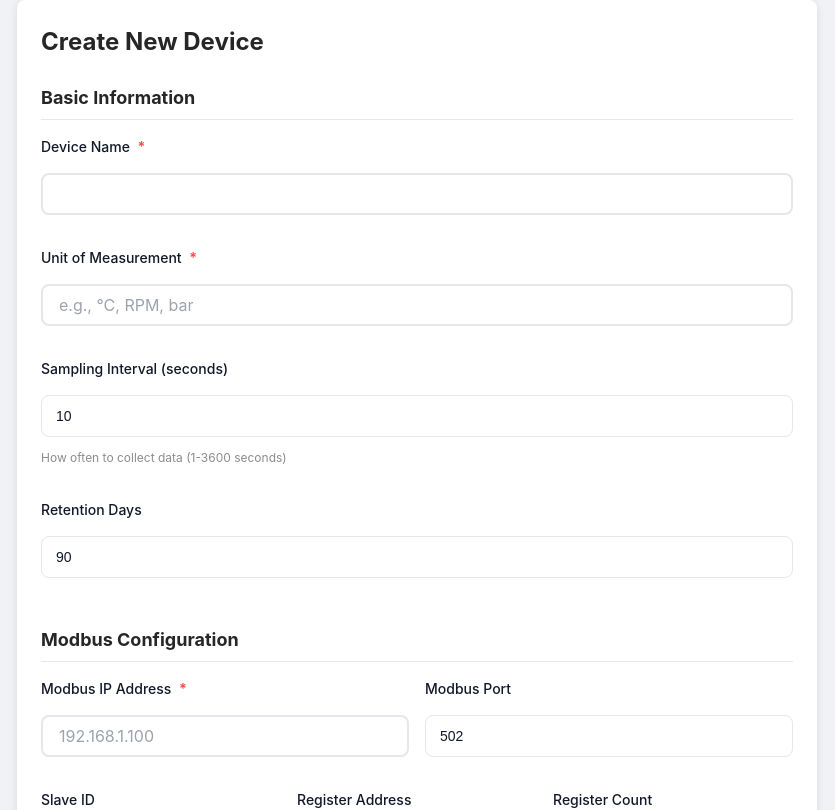
it: DeviceForm Component › Validation › should validate IP address format
The width and height of the screenshot is (835, 810).
Type "Test Device" into the field labelled "Device Name *".
click(417, 194); type("Test Device")  # box [41,173,793,215]
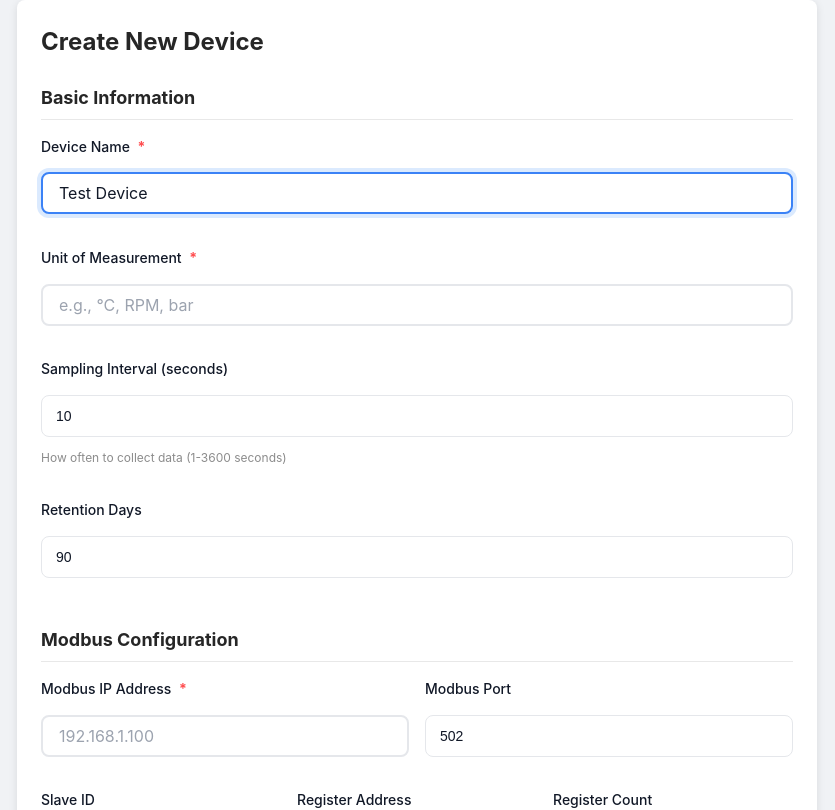
Type "invalid-ip" into the field labelled "Modbus IP Address *".
click(225, 736); type("invalid-ip")  # box [41,715,409,757]
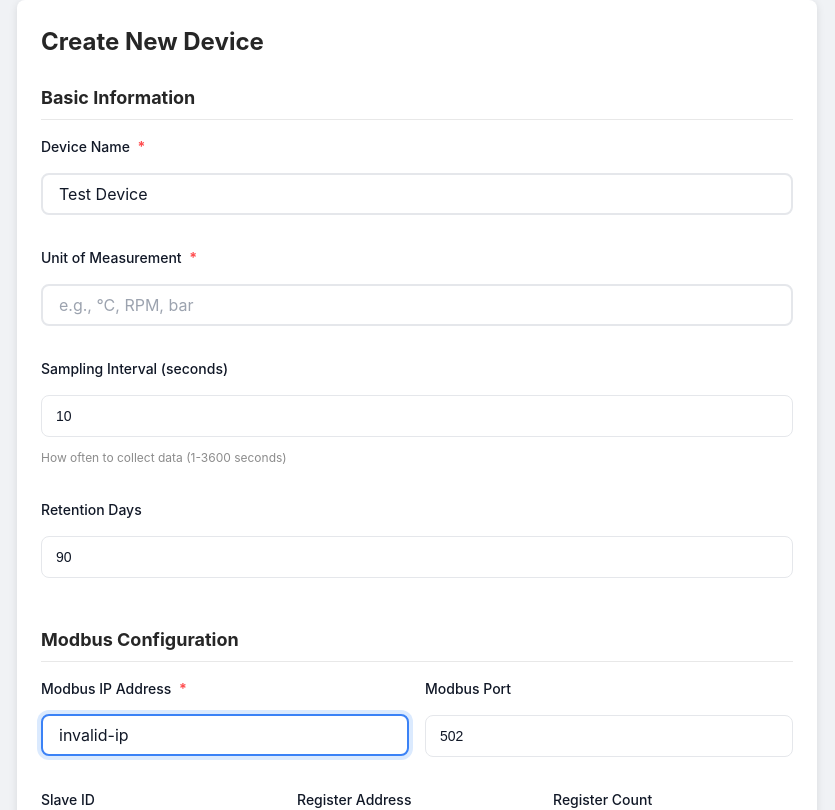
Type "bar" into the field labelled "Unit of Measurement *".
click(417, 305); type("bar")  # box [41,284,793,326]
(page scrolled)
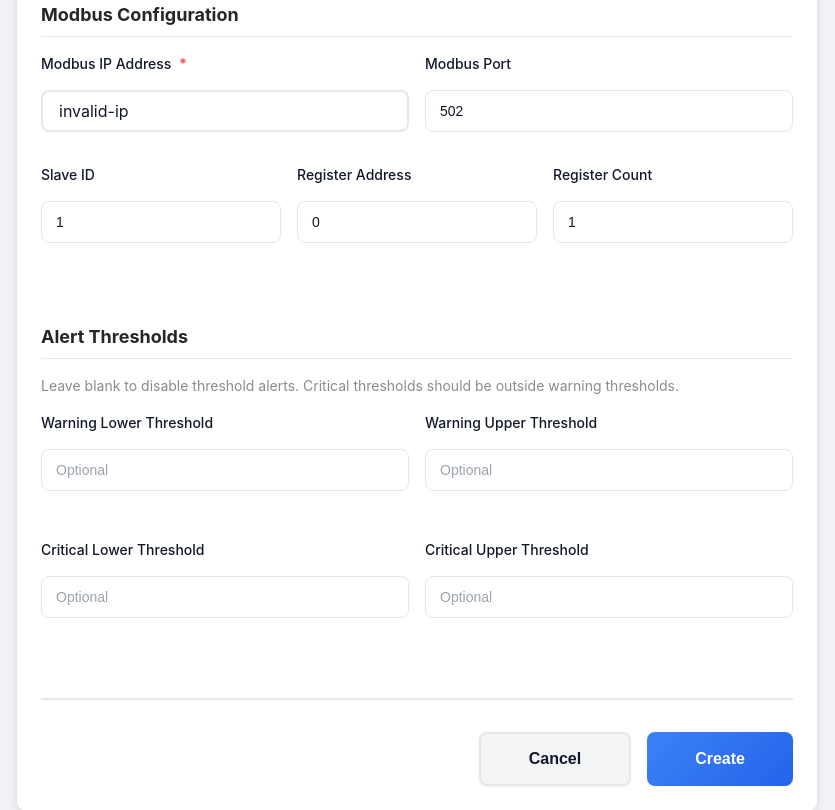
Click the button "Create".
click(720, 759)  # box [647,732,793,786]
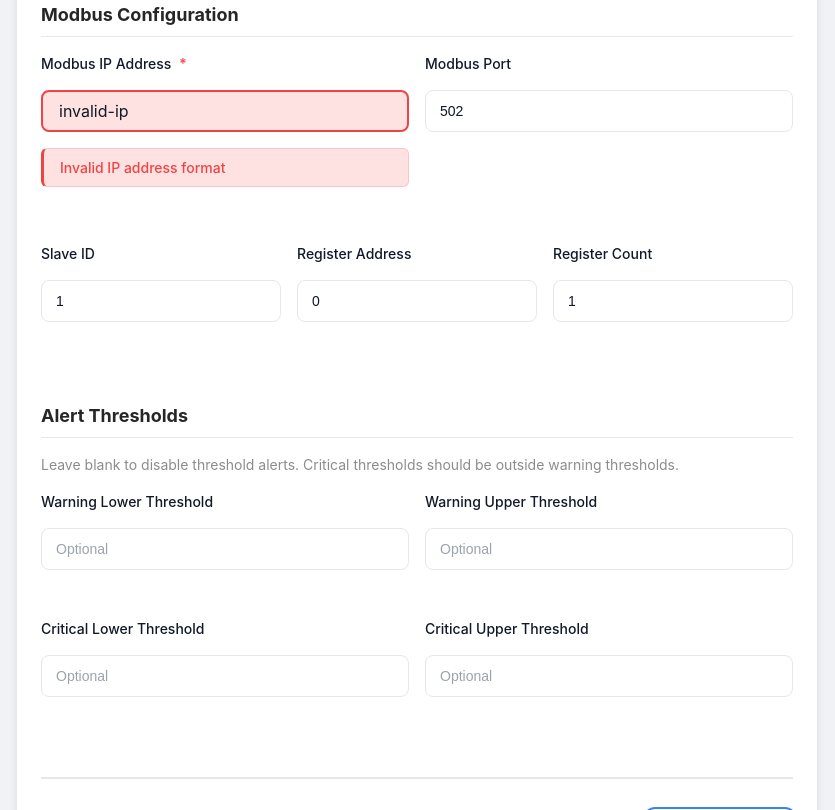
Result: the text "Invalid IP address format" is shown at [41,148,409,187]
